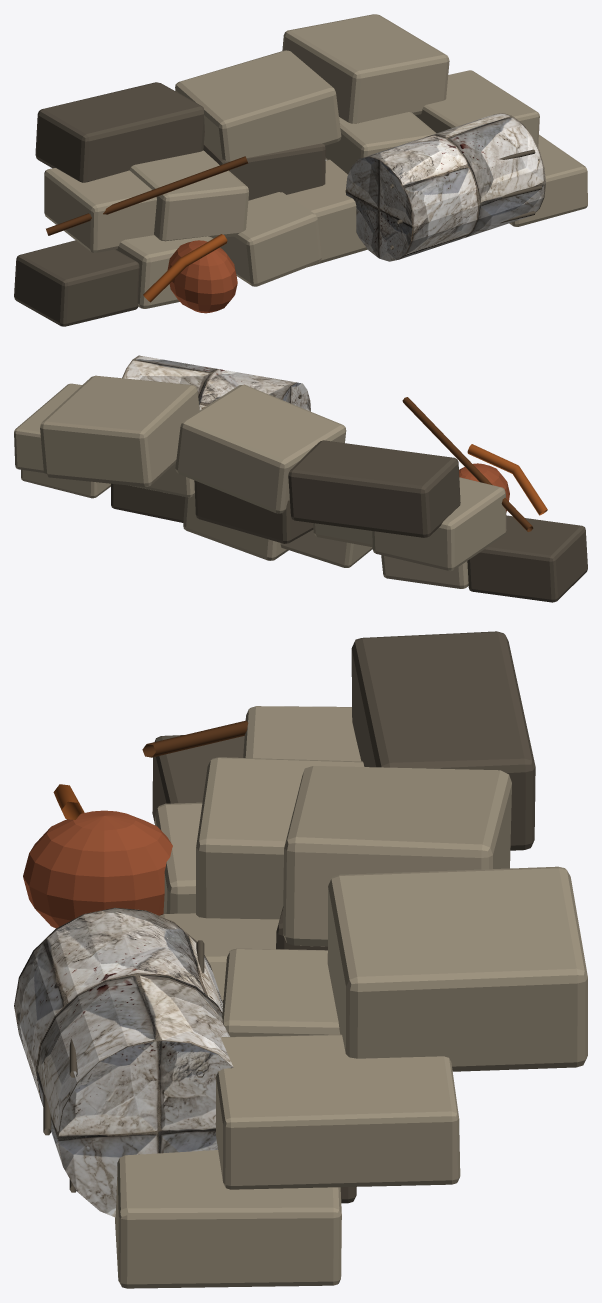
The model's file is rubble_cover_low_LOD0.glb.
3 renders of one model, top to bottom at view 1: azimuth 30°, elevation 25°; view 2: azimuth 150°, elevation 25°; view 3: azimuth 270°, elevation 25°, orthographic. The views are drawn at different scales.
Visible parts, largest first — view 1: LowCoverFallenColumnDrum, LowCoverRubble.012, LowCoverRubble.011, LowCoverRubble.013, LowCoverRubble, LowCoverRubble.007, LowCoverRubble.006, LowCoverRubble.002, LowCoverRubble.010, LowCoverRubble.008, LowCoverRubble.003, LowCoverBrokenAmphora (+5 smaller); view 2: LowCoverRubble.013, LowCoverRubble.011, LowCoverRubble.012, LowCoverRubble, LowCoverRubble.006, LowCoverFallenColumnDrum, LowCoverRubble.008, LowCoverRubble.003, LowCoverRubble.010, LowCoverRubble.004, LowCoverRubble.001, LowCoverRubble.002 (+6 smaller); view 3: LowCoverRubble.013, LowCoverFallenColumnDrum, LowCoverRubble.010, LowCoverRubble.012, LowCoverRubble.005, LowCoverRubble.011, LowCoverRubble.007, LowCoverBrokenAmphora, LowCoverRubble.009, LowCoverRubble.006, LowCoverRubble.001, LowCoverRubble (+2 smaller).
Part boxes in pixels (box(x1,y1,x2,y2)): LowCoverFallenColumnDrum: box(345, 113, 545, 261); LowCoverRubble.012: box(175, 50, 341, 161); LowCoverRubble.011: box(35, 82, 204, 182); LowCoverRubble.013: box(282, 14, 449, 123); LowCoverRubble: box(14, 240, 139, 326); LowCoverRubble.007: box(129, 150, 248, 241); LowCoverRubble.006: box(44, 168, 156, 252); LowCoverRubble.002: box(220, 192, 321, 286); LowCoverRubble.010: box(415, 70, 539, 147); LowCoverRubble.008: box(203, 143, 325, 200); LowCoverRubble.003: box(287, 159, 367, 266); LowCoverBrokenAmphora: box(167, 240, 237, 313); LowCoverRubble.013: box(40, 375, 199, 486); LowCoverRubble.011: box(288, 440, 460, 537); LowCoverRubble.012: box(175, 385, 346, 513); LowCoverRubble: box(467, 515, 587, 602); LowCoverRubble.006: box(372, 477, 506, 570); LowCoverFallenColumnDrum: box(122, 355, 310, 411); LowCoverRubble.008: box(194, 480, 313, 543); LowCoverRubble.003: box(183, 495, 288, 560); LowCoverRubble.010: box(14, 383, 81, 472); LowCoverRubble.004: box(111, 483, 185, 522); LowCoverRubble.001: box(381, 555, 468, 588); LowCoverRubble.002: box(280, 530, 372, 567); LowCoverRubble.013: box(327, 866, 587, 1071); LowCoverFallenColumnDrum: box(14, 907, 233, 1217); LowCoverRubble.010: box(216, 1034, 460, 1189); LowCoverRubble.012: box(283, 766, 511, 946); LowCoverRubble.005: box(115, 1150, 341, 1288); LowCoverRubble.011: box(351, 631, 535, 850); LowCoverRubble.007: box(196, 757, 364, 919); LowCoverBrokenAmphora: box(23, 810, 172, 928); LowCoverRubble.009: box(222, 948, 340, 1036); LowCoverRubble.006: box(243, 706, 361, 761); LowCoverRubble.001: box(155, 802, 202, 914); LowCoverRubble: box(152, 735, 244, 823).
Bounding box in the file's own units: 2.8 × 0.76 × 1.41.
6 materials, 1 textured.
